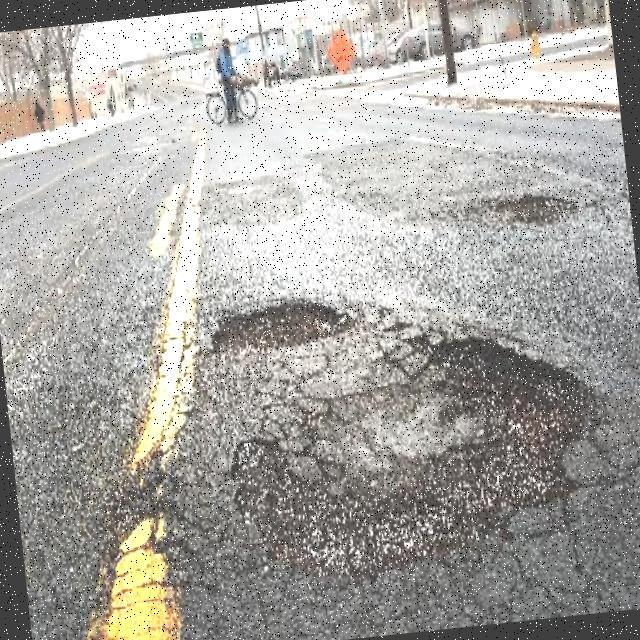Pothole: (228, 326, 605, 578), (206, 298, 361, 357), (427, 189, 579, 236)
